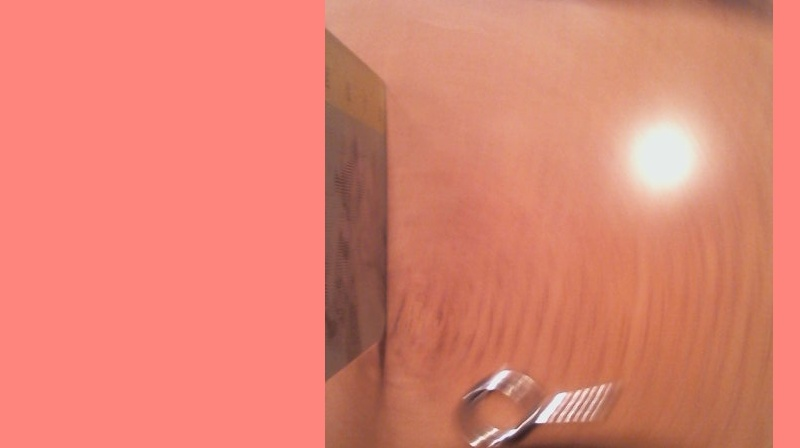O001: (448, 360, 620, 447)
